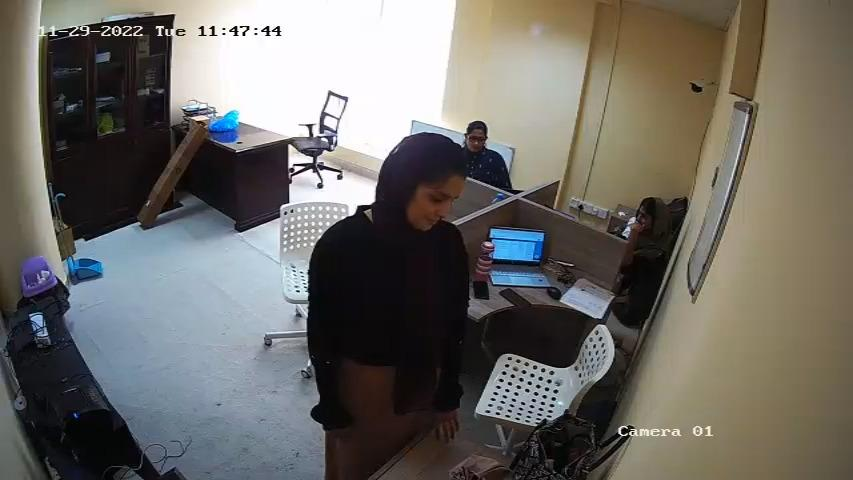no_apron: (332, 235, 447, 399)
